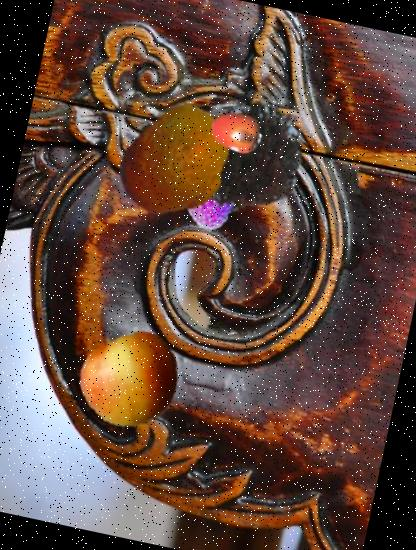Apple: (70, 322, 190, 440)
Kaki: (206, 101, 266, 161)
Mandarine: (106, 93, 248, 235)
Rambutan: (166, 85, 314, 232)
Raspberry: (175, 166, 244, 235)
